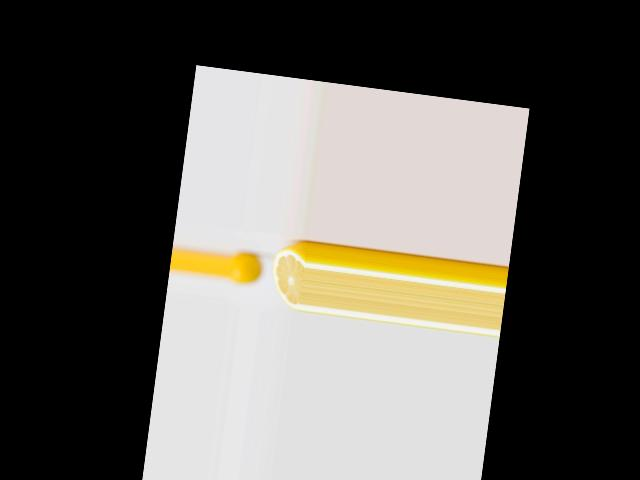lemon: (227, 253, 262, 284)
